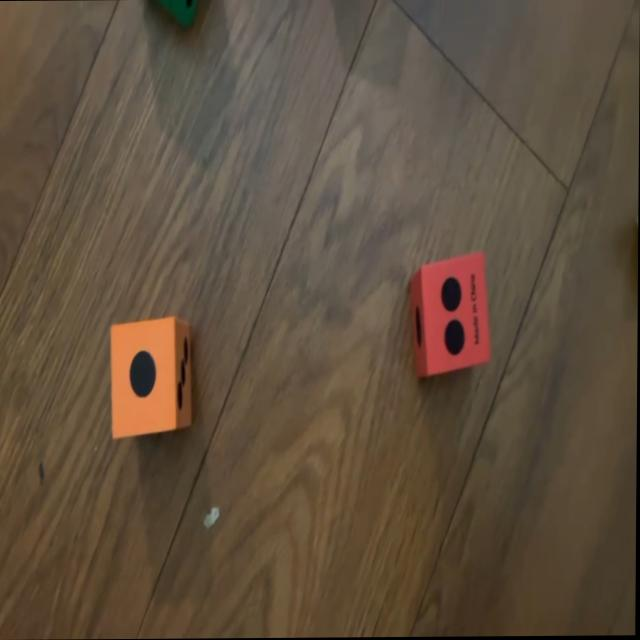cube: (410, 253, 493, 379), (161, 0, 201, 24)
